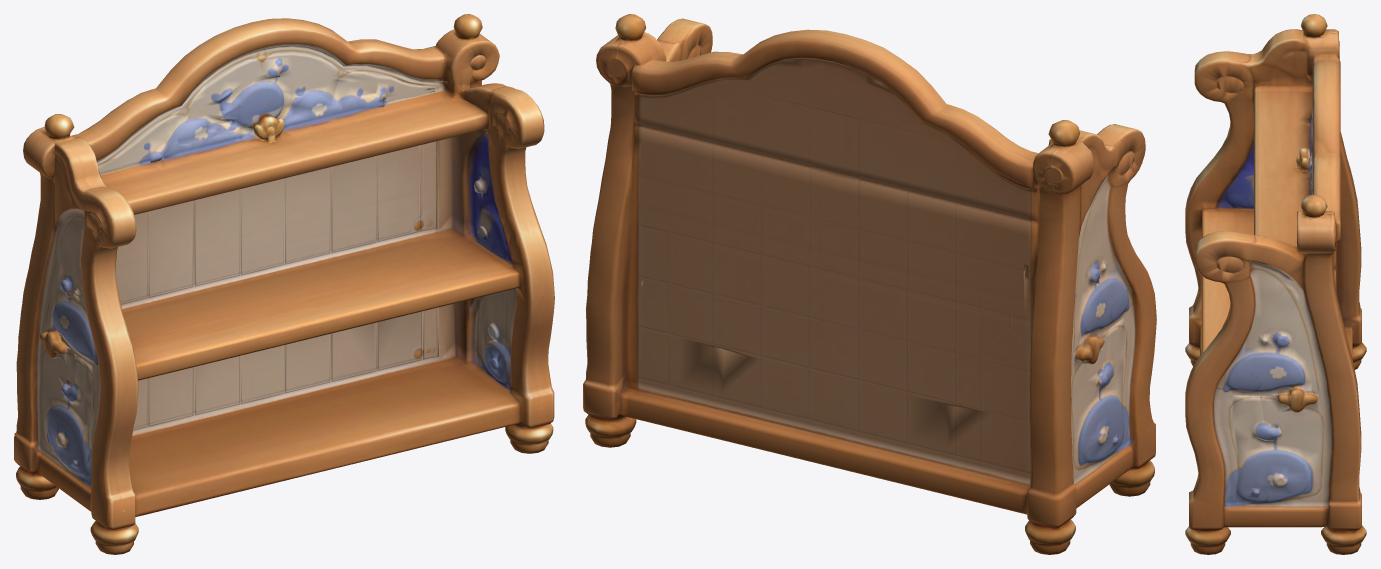
File: whale-shelf-v1.glb
3 views of the same model, side by side, from view 1: azimuth 30°, elevation 25°; view 2: azimuth 150°, elevation 25°; view 3: azimuth 270°, elevation 25° (orthographic). The views are drawn at different scales.
Visible parts, largest first — view 1: whale-shelf-v1; view 2: whale-shelf-v1; view 3: whale-shelf-v1.
Part boxes in pixels (left/top/right/bottom): whale-shelf-v1: left=14, top=14, right=554, bottom=554; whale-shelf-v1: left=583, top=14, right=1156, bottom=554; whale-shelf-v1: left=1185, top=14, right=1366, bottom=554.
Bounding box in the file's own units: 0.95 × 0.8459 × 0.3625.
1 material, 1 textured.
